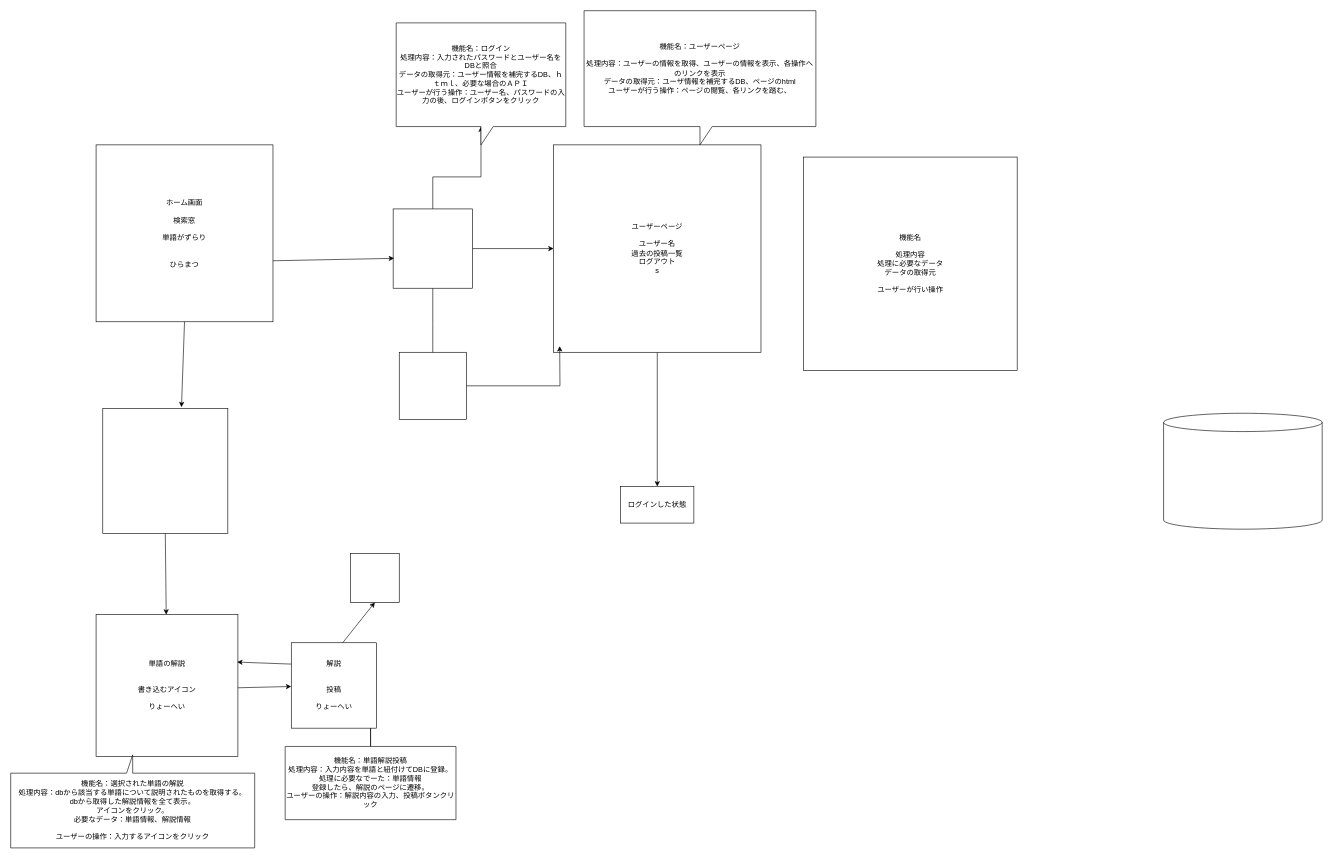
Some shapes in this 1333 by 859 pixel diagram are drawn without their labels. Each missing label, with the centre of its shape:
dbへ登録: point 374,577
ログイン パスワード ユーザー名 ひろみ: point 432,248
単語 解説 解説 解説 ひらまつ: point 165,470
登録画面 名前 パスワード e-mail twitter,google API: point 432,385
解説DB ・単語と紐付けするカラム（foreign key） ・ログイン機能をつけた場合、ユーザー紐付けカラム ・解説カラム(text): point 1242,471
